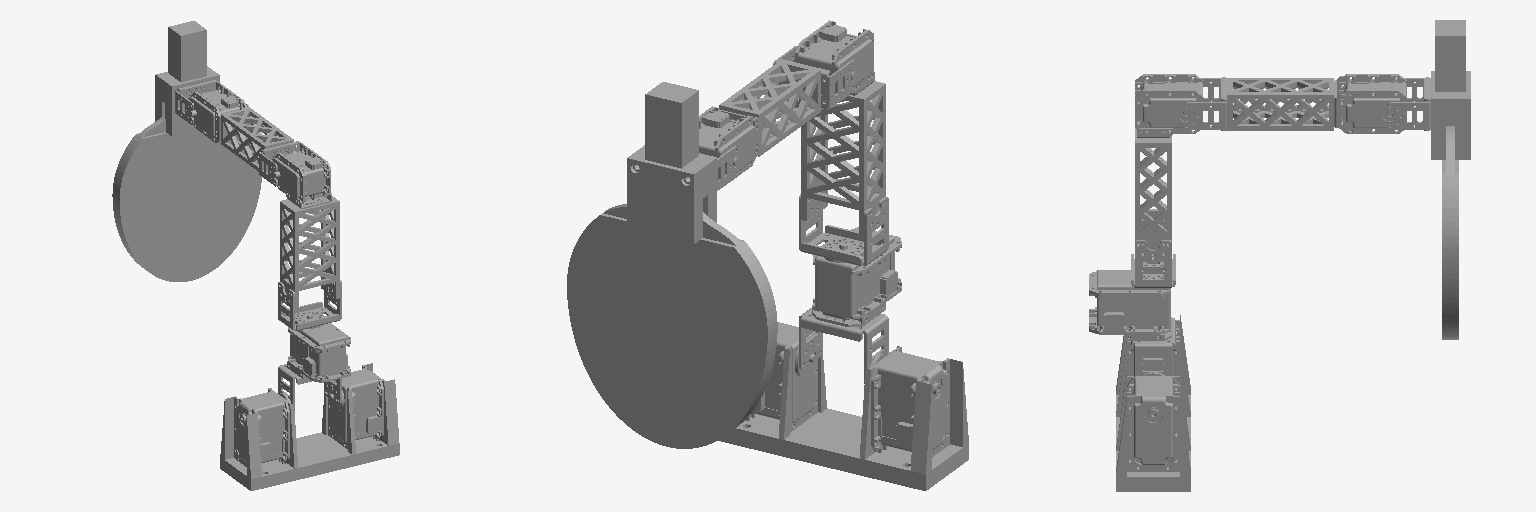
robot.urdf — all-4-export:
<?xml version="1.0" ?>
<!-- =================================================================================== -->
<!-- |    This document was autogenerated by xacro from urdf/all-4-export.xacro        | -->
<!-- |    EDITING THIS FILE BY HAND IS NOT RECOMMENDED                                 | -->
<!-- =================================================================================== -->
<robot name="all-4-export">
  <material name="silver">
    <color rgba="0.700 0.700 0.700 1.000"/>
  </material>
  <transmission name="Revolute 6_tran">
    <type>transmission_interface/SimpleTransmission</type>
    <joint name="Revolute 6">
      <hardwareInterface>hardware_interface/EffortJointInterface</hardwareInterface>
    </joint>
    <actuator name="Revolute 6_actr">
      <hardwareInterface>hardware_interface/EffortJointInterface</hardwareInterface>
      <mechanicalReduction>1</mechanicalReduction>
    </actuator>
  </transmission>
  <transmission name="Revolute 9_tran">
    <type>transmission_interface/SimpleTransmission</type>
    <joint name="Revolute 9">
      <hardwareInterface>hardware_interface/EffortJointInterface</hardwareInterface>
    </joint>
    <actuator name="Revolute 9_actr">
      <hardwareInterface>hardware_interface/EffortJointInterface</hardwareInterface>
      <mechanicalReduction>1</mechanicalReduction>
    </actuator>
  </transmission>
  <transmission name="Revolute 13_tran">
    <type>transmission_interface/SimpleTransmission</type>
    <joint name="Revolute 13">
      <hardwareInterface>hardware_interface/EffortJointInterface</hardwareInterface>
    </joint>
    <actuator name="Revolute 13_actr">
      <hardwareInterface>hardware_interface/EffortJointInterface</hardwareInterface>
      <mechanicalReduction>1</mechanicalReduction>
    </actuator>
  </transmission>
  <transmission name="Revolute 18_tran">
    <type>transmission_interface/SimpleTransmission</type>
    <joint name="Revolute 18">
      <hardwareInterface>hardware_interface/EffortJointInterface</hardwareInterface>
    </joint>
    <actuator name="Revolute 18_actr">
      <hardwareInterface>hardware_interface/EffortJointInterface</hardwareInterface>
      <mechanicalReduction>1</mechanicalReduction>
    </actuator>
  </transmission>
  <gazebo>
    <plugin filename="libgazebo_ros_control.so" name="control"/>
  </gazebo>
  <gazebo reference="base_link">
    <material>Gazebo/Silver</material>
    <mu1>0.2</mu1>
    <mu2>0.2</mu2>
    <self_collide>true</self_collide>
    <gravity>true</gravity>
  </gazebo>
  <gazebo reference="MX-64R_v1__2__1">
    <material>Gazebo/Silver</material>
    <mu1>0.2</mu1>
    <mu2>0.2</mu2>
    <self_collide>true</self_collide>
  </gazebo>
  <gazebo reference="MX-64R_v1__1__1">
    <material>Gazebo/Silver</material>
    <mu1>0.2</mu1>
    <mu2>0.2</mu2>
    <self_collide>true</self_collide>
  </gazebo>
  <gazebo reference="FR05-H101_v1__1__1">
    <material>Gazebo/Silver</material>
    <mu1>0.2</mu1>
    <mu2>0.2</mu2>
    <self_collide>true</self_collide>
  </gazebo>
  <gazebo reference="FR05-B101_v1_1">
    <material>Gazebo/Silver</material>
    <mu1>0.2</mu1>
    <mu2>0.2</mu2>
    <self_collide>true</self_collide>
  </gazebo>
  <gazebo reference="MX-64R_v1_1">
    <material>Gazebo/Silver</material>
    <mu1>0.2</mu1>
    <mu2>0.2</mu2>
    <self_collide>true</self_collide>
  </gazebo>
  <gazebo reference="FR05-H101_v1_1">
    <material>Gazebo/Silver</material>
    <mu1>0.2</mu1>
    <mu2>0.2</mu2>
    <self_collide>true</self_collide>
  </gazebo>
  <gazebo reference="arm_v9_1">
    <material>Gazebo/Silver</material>
    <mu1>0.2</mu1>
    <mu2>0.2</mu2>
    <self_collide>true</self_collide>
  </gazebo>
  <gazebo reference="FR07-S101_v1__1__1">
    <material>Gazebo/Silver</material>
    <mu1>0.2</mu1>
    <mu2>0.2</mu2>
    <self_collide>true</self_collide>
  </gazebo>
  <gazebo reference="MX-28T_R_v1__1__1">
    <material>Gazebo/Silver</material>
    <mu1>0.2</mu1>
    <mu2>0.2</mu2>
    <self_collide>true</self_collide>
  </gazebo>
  <gazebo reference="FR07-H101_v1_1">
    <material>Gazebo/Silver</material>
    <mu1>0.2</mu1>
    <mu2>0.2</mu2>
    <self_collide>true</self_collide>
  </gazebo>
  <gazebo reference="arm2_v2_1">
    <material>Gazebo/Silver</material>
    <mu1>0.2</mu1>
    <mu2>0.2</mu2>
    <self_collide>true</self_collide>
  </gazebo>
  <gazebo reference="FR07-S101_v1_1">
    <material>Gazebo/Silver</material>
    <mu1>0.2</mu1>
    <mu2>0.2</mu2>
    <self_collide>true</self_collide>
  </gazebo>
  <gazebo reference="MX-28T_R_v1_1">
    <material>Gazebo/Silver</material>
    <mu1>0.2</mu1>
    <mu2>0.2</mu2>
    <self_collide>true</self_collide>
  </gazebo>
  <gazebo reference="FR07-H101_v1__1__1">
    <material>Gazebo/Silver</material>
    <mu1>0.2</mu1>
    <mu2>0.2</mu2>
    <self_collide>true</self_collide>
  </gazebo>
  <gazebo reference="racket_joint_v8_1">
    <material>Gazebo/Silver</material>
    <mu1>0.2</mu1>
    <mu2>0.2</mu2>
    <self_collide>true</self_collide>
  </gazebo>
  <gazebo reference="pingpong_paddle_v5_1">
    <material>Gazebo/Silver</material>
    <mu1>0.2</mu1>
    <mu2>0.2</mu2>
    <self_collide>true</self_collide>
  </gazebo>
  <link name="base_link">
    <inertial>
      <origin rpy="0 0 0" xyz="4.41128716381848e-15 0.02800546166274284 0.010778198398999333"/>
      <mass value="0.9811970901956754"/>
      <inertia ixx="0.000446" ixy="0.0" ixz="0.0" iyy="0.002408" iyz="-0.0" izz="0.002531"/>
    </inertial>
    <visual>
      <origin rpy="0 0 0" xyz="0 0 0"/>
      <geometry>
        <mesh filename="package://4-dof/meshes/base_link.stl" scale="0.001 0.001 0.001"/>
      </geometry>
      <material name="silver"/>
    </visual>
    <collision>
      <origin rpy="0 0 0" xyz="0 0 0"/>
      <geometry>
        <mesh filename="package://4-dof/meshes/base_link.stl" scale="0.001 0.001 0.001"/>
      </geometry>
    </collision>
  </link>
  <link name="MX-64R_v1__2__1">
    <inertial>
      <origin rpy="0 0 0" xyz="0.017451641868345052 0.011000000017253497 0.030092246470602525"/>
      <!-- mass from MX-64R spec sheet (robotis.com, 902-0065-000): 126g -->
      <mass value="0.126"/>
      <inertia ixx="4.344e-05" ixy="0.0" ixz="-1.551e-06" iyy="5.186e-05" iyz="0.0" izz="2.948e-05"/>
    </inertial>
    <visual>
      <origin rpy="0 0 0" xyz="0.06625 -0.017 -0.0148"/>
      <geometry>
        <mesh filename="package://4-dof/meshes/MX-64R_v1__2__1.stl" scale="0.001 0.001 0.001"/>
      </geometry>
      <material name="silver"/>
    </visual>
    <collision>
      <origin rpy="0 0 0" xyz="0.06625 -0.017 -0.0148"/>
      <geometry>
        <mesh filename="package://4-dof/meshes/MX-64R_v1__2__1.stl" scale="0.001 0.001 0.001"/>
      </geometry>
    </collision>
  </link>
  <link name="MX-64R_v1__1__1">
    <inertial>
      <origin rpy="0 0 0" xyz="-0.017451641868345052 0.010999999982746273 0.030092246470602525"/>
      <!-- mass from MX-64R spec sheet (robotis.com, 902-0065-000): 126g -->
      <mass value="0.126"/>
      <inertia ixx="4.344e-05" ixy="0.0" ixz="1.551e-06" iyy="5.186e-05" iyz="-0.0" izz="2.948e-05"/>
    </inertial>
    <visual>
      <origin rpy="0 0 0" xyz="-0.06625 -0.017 -0.0148"/>
      <geometry>
        <mesh filename="package://4-dof/meshes/MX-64R_v1__1__1.stl" scale="0.001 0.001 0.001"/>
      </geometry>
      <material name="silver"/>
    </visual>
    <collision>
      <origin rpy="0 0 0" xyz="-0.06625 -0.017 -0.0148"/>
      <geometry>
        <mesh filename="package://4-dof/meshes/MX-64R_v1__1__1.stl" scale="0.001 0.001 0.001"/>
      </geometry>
    </collision>
  </link>
  <link name="FR05-H101_v1__1__1">
    <inertial>
      <origin rpy="0 0 0" xyz="0.02550000000002023 -1.1796119636642288e-16 0.0256313146478562"/>
      <mass value="0.05198831685263556"/>
      <inertia ixx="1.3e-05" ixy="0.0" ixz="-0.0" iyy="2.7e-05" iyz="0.0" izz="2.6e-05"/>
    </inertial>
    <visual>
      <origin rpy="0 0 0" xyz="0.02575 -0.028 -0.0601"/>
      <geometry>
        <mesh filename="package://4-dof/meshes/FR05-H101_v1__1__1.stl" scale="0.001 0.001 0.001"/>
      </geometry>
      <material name="silver"/>
    </visual>
    <collision>
      <origin rpy="0 0 0" xyz="0.02575 -0.028 -0.0601"/>
      <geometry>
        <mesh filename="package://4-dof/meshes/FR05-H101_v1__1__1.stl" scale="0.001 0.001 0.001"/>
      </geometry>
    </collision>
  </link>
  <link name="FR05-B101_v1_1">
    <inertial>
      <origin rpy="0 0 0" xyz="-4.5090504680739274e-14 -0.0029557693246398953 0.0016902214716354585"/>
      <mass value="0.01879497598985593"/>
      <inertia ixx="2e-06" ixy="0.0" ixz="-0.0" iyy="4e-06" iyz="0.0" izz="5e-06"/>
    </inertial>
    <visual>
      <origin rpy="0 0 0" xyz="0.00025 -0.028 -0.0961"/>
      <geometry>
        <mesh filename="package://4-dof/meshes/FR05-B101_v1_1.stl" scale="0.001 0.001 0.001"/>
      </geometry>
      <material name="silver"/>
    </visual>
    <collision>
      <origin rpy="0 0 0" xyz="0.00025 -0.028 -0.0961"/>
      <geometry>
        <mesh filename="package://4-dof/meshes/FR05-B101_v1_1.stl" scale="0.001 0.001 0.001"/>
      </geometry>
    </collision>
  </link>
  <link name="MX-64R_v1_1">
    <inertial>
      <origin rpy="0 0 0" xyz="0.017300000017253583 -0.019207753529397596 0.017451641868345094"/>
      <!-- mass from MX-64R spec sheet (robotis.com, 902-0065-000): 126g -->
      <mass value="0.126"/>
      <inertia ixx="5.186e-05" ixy="0.0" ixz="0.0" iyy="2.948e-05" iyz="-1.551e-06" izz="4.344e-05"/>
    </inertial>
    <visual>
      <origin rpy="0 0 0" xyz="0.01755 -0.032 -0.1021"/>
      <geometry>
        <mesh filename="package://4-dof/meshes/MX-64R_v1_1.stl" scale="0.001 0.001 0.001"/>
      </geometry>
      <material name="silver"/>
    </visual>
    <collision>
      <origin rpy="0 0 0" xyz="0.01755 -0.032 -0.1021"/>
      <geometry>
        <mesh filename="package://4-dof/meshes/MX-64R_v1_1.stl" scale="0.001 0.001 0.001"/>
      </geometry>
    </collision>
  </link>
  <link name="FR05-H101_v1_1">
    <inertial>
      <origin rpy="0 0 0" xyz="2.024828872279616e-14 -1.3530843112619095e-16 0.010168685352143825"/>
      <mass value="0.05198831685263556"/>
      <inertia ixx="1.3e-05" ixy="-0.0" ixz="0.0" iyy="2.7e-05" iyz="-0.0" izz="2.6e-05"/>
    </inertial>
    <visual>
      <origin rpy="0 0 0" xyz="0.00025 -0.028 -0.1426"/>
      <geometry>
        <mesh filename="package://4-dof/meshes/FR05-H101_v1_1.stl" scale="0.001 0.001 0.001"/>
      </geometry>
      <material name="silver"/>
    </visual>
    <collision>
      <origin rpy="0 0 0" xyz="0.00025 -0.028 -0.1426"/>
      <geometry>
        <mesh filename="package://4-dof/meshes/FR05-H101_v1_1.stl" scale="0.001 0.001 0.001"/>
      </geometry>
    </collision>
  </link>
  <link name="arm_v9_1">
    <inertial>
      <origin rpy="0 0 0" xyz="0.02362282770461404 1.947747047686965e-05 0.05189568925169269"/>
      <!-- mass measured: arm_v9_1 = 27g -->
      <mass value="0.027"/>
      <inertia ixx="2.666e-05" ixy="0.0" ixz="1.11e-07" iyy="3.21e-05" iyz="0.0" izz="1.077e-05"/>
    </inertial>
    <visual>
      <origin rpy="0 0 0" xyz="0.02375 -0.028 -0.1674"/>
      <geometry>
        <mesh filename="package://4-dof/meshes/arm_v9_1.stl" scale="0.001 0.001 0.001"/>
      </geometry>
      <material name="silver"/>
    </visual>
    <collision>
      <origin rpy="0 0 0" xyz="0.02375 -0.028 -0.1674"/>
      <geometry>
        <mesh filename="package://4-dof/meshes/arm_v9_1.stl" scale="0.001 0.001 0.001"/>
      </geometry>
    </collision>
  </link>
  <link name="FR07-S101_v1__1__1">
    <inertial>
      <origin rpy="0 0 0" xyz="-2.0825301118992945e-14 0.008467333868896306 0.002214506791986759"/>
      <mass value="0.011446844551351427"/>
      <inertia ixx="1e-06" ixy="0.0" ixz="-0.0" iyy="2e-06" iyz="-0.0" izz="2e-06"/>
    </inertial>
    <visual>
      <origin rpy="0 0 0" xyz="0.00025 -0.02 -0.2614"/>
      <geometry>
        <mesh filename="package://4-dof/meshes/FR07-S101_v1__1__1.stl" scale="0.001 0.001 0.001"/>
      </geometry>
      <material name="silver"/>
    </visual>
    <collision>
      <origin rpy="0 0 0" xyz="0.00025 -0.02 -0.2614"/>
      <geometry>
        <mesh filename="package://4-dof/meshes/FR07-S101_v1__1__1.stl" scale="0.001 0.001 0.001"/>
      </geometry>
    </collision>
  </link>
  <link name="MX-28T_R_v1__1__1">
    <inertial>
      <origin rpy="0 0 0" xyz="0.015031845145486198 0.017984471617669542 0.014999999976589629"/>
      <!-- mass from MX-28T spec sheet (robotis.com, 902-0067-000): 72g -->
      <mass value="0.072"/>
      <inertia ixx="1.717e-05" ixy="2.12e-07" ixz="0.0" iyy="1.251e-05" iyz="-0.0" izz="2.035e-05"/>
    </inertial>
    <visual>
      <origin rpy="0 0 0" xyz="0.01525 -0.0235 -0.2674"/>
      <geometry>
        <mesh filename="package://4-dof/meshes/MX-28T_R_v1__1__1.stl" scale="0.001 0.001 0.001"/>
      </geometry>
      <material name="silver"/>
    </visual>
    <collision>
      <origin rpy="0 0 0" xyz="0.01525 -0.0235 -0.2674"/>
      <geometry>
        <mesh filename="package://4-dof/meshes/MX-28T_R_v1__1__1.stl" scale="0.001 0.001 0.001"/>
      </geometry>
    </collision>
  </link>
  <link name="FR07-H101_v1_1">
    <inertial>
      <origin rpy="0 0 0" xyz="-3.365828433557125e-06 0.021380623885861517 6.089573290068984e-14"/>
      <mass value="0.025998108201265576"/>
      <inertia ixx="4e-06" ixy="-0.0" ixz="0.0" iyy="9e-06" iyz="0.0" izz="1e-05"/>
    </inertial>
    <visual>
      <origin rpy="0 0 0" xyz="0.00025 -0.053 -0.2824"/>
      <geometry>
        <mesh filename="package://4-dof/meshes/FR07-H101_v1_1.stl" scale="0.001 0.001 0.001"/>
      </geometry>
      <material name="silver"/>
    </visual>
    <collision>
      <origin rpy="0 0 0" xyz="0.00025 -0.053 -0.2824"/>
      <geometry>
        <mesh filename="package://4-dof/meshes/FR07-H101_v1_1.stl" scale="0.001 0.001 0.001"/>
      </geometry>
    </collision>
  </link>
  <link name="arm2_v2_1">
    <inertial>
      <origin rpy="0 0 0" xyz="-0.007777999999573574 0.03999999999999991 -0.007778000000000118"/>
      <!-- mass measured: arm2_v2_1 = 21.7g -->
      <mass value="0.0217"/>
      <inertia ixx="1.841e-05" ixy="-0.0" ixz="-0.0" iyy="4.818e-06" iyz="-0.0" izz="1.841e-05"/>
    </inertial>
    <visual>
      <origin rpy="0 0 0" xyz="-0.007528 -0.083 -0.290178"/>
      <geometry>
        <mesh filename="package://4-dof/meshes/arm2_v2_1.stl" scale="0.001 0.001 0.001"/>
      </geometry>
      <material name="silver"/>
    </visual>
    <collision>
      <origin rpy="0 0 0" xyz="-0.007528 -0.083 -0.290178"/>
      <geometry>
        <mesh filename="package://4-dof/meshes/arm2_v2_1.stl" scale="0.001 0.001 0.001"/>
      </geometry>
    </collision>
  </link>
  <link name="FR07-S101_v1_1">
    <inertial>
      <origin rpy="0 0 0" xyz="2.0689287956454638e-14 0.00221450679198662 0.000467333868896469"/>
      <mass value="0.011446844551351427"/>
      <inertia ixx="1e-06" ixy="0.0" ixz="-0.0" iyy="2e-06" iyz="-0.0" izz="2e-06"/>
    </inertial>
    <visual>
      <origin rpy="0 0 0" xyz="0.00025 -0.163 -0.2824"/>
      <geometry>
        <mesh filename="package://4-dof/meshes/FR07-S101_v1_1.stl" scale="0.001 0.001 0.001"/>
      </geometry>
      <material name="silver"/>
    </visual>
    <collision>
      <origin rpy="0 0 0" xyz="0.00025 -0.163 -0.2824"/>
      <geometry>
        <mesh filename="package://4-dof/meshes/FR07-S101_v1_1.stl" scale="0.001 0.001 0.001"/>
      </geometry>
    </collision>
  </link>
  <link name="MX-28T_R_v1_1">
    <inertial>
      <origin rpy="0 0 0" xyz="0.015031845145486136 0.024284471617669556 0.008499999976589567"/>
      <!-- mass from MX-28T spec sheet (robotis.com, 902-0067-000): 72g -->
      <mass value="0.072"/>
      <inertia ixx="1.717e-05" ixy="2.12e-07" ixz="0.0" iyy="1.251e-05" iyz="-0.0" izz="2.035e-05"/>
    </inertial>
    <visual>
      <origin rpy="0 0 0" xyz="0.01525 -0.169 -0.2739"/>
      <geometry>
        <mesh filename="package://4-dof/meshes/MX-28T_R_v1_1.stl" scale="0.001 0.001 0.001"/>
      </geometry>
      <material name="silver"/>
    </visual>
    <collision>
      <origin rpy="0 0 0" xyz="0.01525 -0.169 -0.2739"/>
      <geometry>
        <mesh filename="package://4-dof/meshes/MX-28T_R_v1_1.stl" scale="0.001 0.001 0.001"/>
      </geometry>
    </collision>
  </link>
  <link name="FR07-H101_v1__1__1">
    <inertial>
      <origin rpy="0 0 0" xyz="-3.3658284336170272e-06 0.021380623885861483 6.078471059822732e-14"/>
      <mass value="0.025998108201265576"/>
      <inertia ixx="4e-06" ixy="-0.0" ixz="0.0" iyy="9e-06" iyz="0.0" izz="1e-05"/>
    </inertial>
    <visual>
      <origin rpy="0 0 0" xyz="0.00025 -0.2048 -0.2824"/>
      <geometry>
        <mesh filename="package://4-dof/meshes/FR07-H101_v1__1__1.stl" scale="0.001 0.001 0.001"/>
      </geometry>
      <material name="silver"/>
    </visual>
    <collision>
      <origin rpy="0 0 0" xyz="0.00025 -0.2048 -0.2824"/>
      <geometry>
        <mesh filename="package://4-dof/meshes/FR07-H101_v1__1__1.stl" scale="0.001 0.001 0.001"/>
      </geometry>
    </collision>
  </link>
  <link name="racket_joint_v8_1">
    <inertial>
      <origin rpy="0 0 0" xyz="0.007777999999983611 0.01501142035517336 -0.0015451576233940778"/>
      <!-- TODO: measured mass is from racket_joint_v9_1 (13.3g + 13.2g = 26.5g); this link's mesh is
           still racket_joint_v8_1 and the STL shape looked different from the v9 parts weighed.
           Re-verify mass/inertia once the v9 mesh replaces v8 in this URDF. -->
      <mass value="0.0265"/>
      <inertia ixx="8.635e-06" ixy="0.0" ixz="0.0" iyy="1.349e-05" iyz="0.0" izz="1.053e-05"/>
    </inertial>
    <visual>
      <origin rpy="0 0 0" xyz="0.008028 -0.2348 -0.274622"/>
      <geometry>
        <mesh filename="package://4-dof/meshes/racket_joint_v8_1.stl" scale="0.001 0.001 0.001"/>
      </geometry>
      <material name="silver"/>
    </visual>
    <collision>
      <origin rpy="0 0 0" xyz="0.008028 -0.2348 -0.274622"/>
      <geometry>
        <mesh filename="package://4-dof/meshes/racket_joint_v8_1.stl" scale="0.001 0.001 0.001"/>
      </geometry>
    </collision>
  </link>
  <link name="pingpong_paddle_v5_1">
    <inertial>
      <origin rpy="0 0 0" xyz="6.7342507438505894e-15 -0.006399999999999961 -0.046816094811444026"/>
      <!-- mass measured: pingpong_paddle_v5_1 = 172.9g (with protective film still on, not peeled) -->
      <mass value="0.1729"/>
      <inertia ixx="0.0006375" ixy="-0.0" ixz="-0.0" iyy="0.0008405" iyz="0.0" izz="0.0002094"/>
    </inertial>
    <visual>
      <origin rpy="0 0 0" xyz="0.00025 -0.2561 -0.2484"/>
      <geometry>
        <mesh filename="package://4-dof/meshes/pingpong_paddle_v5_1.stl" scale="0.001 0.001 0.001"/>
      </geometry>
      <material name="silver"/>
    </visual>
    <collision>
      <origin rpy="0 0 0" xyz="0.00025 -0.2561 -0.2484"/>
      <geometry>
        <mesh filename="package://4-dof/meshes/pingpong_paddle_v5_1.stl" scale="0.001 0.001 0.001"/>
      </geometry>
    </collision>
  </link>
  <joint name="Rigid 4" type="fixed">
    <origin rpy="0 0 0" xyz="-0.06625 0.017 0.0148"/>
    <parent link="base_link"/>
    <child link="MX-64R_v1__2__1"/>
  </joint>
  <joint name="Rigid 5" type="fixed">
    <origin rpy="0 0 0" xyz="0.06625 0.017 0.0148"/>
    <parent link="base_link"/>
    <child link="MX-64R_v1__1__1"/>
  </joint>
  <joint name="Revolute 6" type="continuous">
    <origin rpy="0 0 0" xyz="0.0405 0.011 0.0453"/>
    <parent link="MX-64R_v1__2__1"/>
    <child link="FR05-H101_v1__1__1"/>
    <axis xyz="-1.0 0.0 0.0"/>
  </joint>
  <joint name="Rigid 7" type="fixed">
    <origin rpy="0 0 0" xyz="0.0255 0.0 0.036"/>
    <parent link="FR05-H101_v1__1__1"/>
    <child link="FR05-B101_v1_1"/>
  </joint>
  <joint name="Rigid 8" type="fixed">
    <origin rpy="0 0 0" xyz="-0.0173 0.004 0.006"/>
    <parent link="FR05-B101_v1_1"/>
    <child link="MX-64R_v1_1"/>
  </joint>
  <joint name="Revolute 9" type="revolute">
    <origin rpy="0 0 0" xyz="0.0173 -0.004 0.0405"/>
    <parent link="MX-64R_v1_1"/>
    <child link="FR05-H101_v1_1"/>
    <axis xyz="0.0 0.0 -1.0"/>
    <limit effort="100" lower="-0.523599" upper="0.523599" velocity="100"/>
  </joint>
  <joint name="Rigid 10" type="fixed">
    <origin rpy="0 0 0" xyz="-0.0235 0.0 0.0248"/>
    <parent link="FR05-H101_v1_1"/>
    <child link="arm_v9_1"/>
  </joint>
  <joint name="Rigid 11" type="fixed">
    <origin rpy="0 0 0" xyz="0.0235 -0.008 0.094"/>
    <parent link="arm_v9_1"/>
    <child link="FR07-S101_v1__1__1"/>
  </joint>
  <joint name="Rigid 12" type="fixed">
    <origin rpy="0 0 0" xyz="-0.015 0.0035 0.006"/>
    <parent link="FR07-S101_v1__1__1"/>
    <child link="MX-28T_R_v1__1__1"/>
  </joint>
  <joint name="Revolute 13" type="revolute">
    <origin rpy="0 0 0" xyz="0.015 0.0295 0.015"/>
    <parent link="MX-28T_R_v1__1__1"/>
    <child link="FR07-H101_v1_1"/>
    <axis xyz="-1.0 -0.0 -0.0"/>
    <limit effort="100" lower="-2.007129" upper="1.48353" velocity="100"/>
  </joint>
  <joint name="Rigid 19" type="fixed">
    <origin rpy="0 0 0" xyz="0.007778 0.03 0.007778"/>
    <parent link="FR07-H101_v1_1"/>
    <child link="arm2_v2_1"/>
  </joint>
  <joint name="Rigid 16" type="fixed">
    <origin rpy="0 0 0" xyz="-0.007778 0.08 -0.007778"/>
    <parent link="arm2_v2_1"/>
    <child link="FR07-S101_v1_1"/>
  </joint>
  <joint name="Rigid 17" type="fixed">
    <origin rpy="0 0 0" xyz="-0.015 0.006 -0.0085"/>
    <parent link="FR07-S101_v1_1"/>
    <child link="MX-28T_R_v1_1"/>
  </joint>
  <joint name="Revolute 18" type="revolute">
    <origin rpy="0 0 0" xyz="0.015 0.0358 0.0085"/>
    <parent link="MX-28T_R_v1_1"/>
    <child link="FR07-H101_v1__1__1"/>
    <axis xyz="-1.0 0.0 -0.0"/>
    <limit effort="100" lower="-2.094395" upper="2.094395" velocity="100"/>
  </joint>
  <joint name="Rigid 14" type="fixed">
    <origin rpy="0 0 0" xyz="-0.007778 0.03 -0.007778"/>
    <parent link="FR07-H101_v1__1__1"/>
    <child link="racket_joint_v8_1"/>
  </joint>
  <joint name="Rigid 15" type="fixed">
    <origin rpy="0 0 0" xyz="0.007778 0.0213 -0.026222"/>
    <parent link="racket_joint_v8_1"/>
    <child link="pingpong_paddle_v5_1"/>
  </joint>
</robot>

--- Facts derived from the render (not from the file) ---
Views: 3 orthographic renders of the robot side by side, from view 1: azimuth 30°, elevation 25°; view 2: azimuth 150°, elevation 25°; view 3: azimuth 270°, elevation 25°.
Model all-4-export with 17 links and 16 joints (3 revolute, 1 continuous, 12 fixed), rooted at base_link, posed every joint at zero.
Visible links, largest first — view 1: pingpong_paddle_v5_1, base_link, arm_v9_1, MX-64R_v1_1, MX-64R_v1__2__1, MX-64R_v1__1__1, arm2_v2_1, MX-28T_R_v1__1__1, FR05-H101_v1_1, racket_joint_v8_1, MX-28T_R_v1_1, FR05-H101_v1__1__1 (+2 smaller); view 2: pingpong_paddle_v5_1, base_link, arm_v9_1, racket_joint_v8_1, MX-64R_v1__2__1, arm2_v2_1, MX-64R_v1_1, FR05-H101_v1_1, MX-28T_R_v1__1__1, MX-64R_v1__1__1, MX-28T_R_v1_1, FR05-H101_v1__1__1 (+3 smaller); view 3: base_link, pingpong_paddle_v5_1, arm2_v2_1, MX-64R_v1_1, MX-64R_v1__1__1, arm_v9_1, MX-28T_R_v1__1__1, MX-28T_R_v1_1, racket_joint_v8_1, FR05-H101_v1_1, FR07-H101_v1__1__1, FR07-H101_v1_1 (+1 smaller).
Link boxes in pixels (x1,y1,x2,y2): pingpong_paddle_v5_1: (112, 21, 261, 281); base_link: (220, 363, 399, 490); arm_v9_1: (280, 196, 339, 308); MX-64R_v1_1: (288, 314, 350, 382); MX-64R_v1__2__1: (236, 391, 290, 463); MX-64R_v1__1__1: (327, 368, 383, 442); arm2_v2_1: (221, 107, 293, 171); MX-28T_R_v1__1__1: (273, 147, 330, 203); FR05-H101_v1_1: (278, 280, 341, 330); racket_joint_v8_1: (155, 66, 219, 135); MX-28T_R_v1_1: (189, 85, 247, 142); FR05-H101_v1__1__1: (278, 364, 341, 410); pingpong_paddle_v5_1: (567, 82, 777, 448); base_link: (718, 331, 968, 490); arm_v9_1: (801, 81, 885, 234); racket_joint_v8_1: (627, 145, 716, 243); MX-64R_v1__2__1: (870, 350, 946, 452); arm2_v2_1: (719, 60, 820, 156); MX-64R_v1_1: (813, 227, 901, 319); FR05-H101_v1_1: (799, 194, 888, 265); MX-28T_R_v1__1__1: (794, 20, 873, 100); MX-64R_v1__1__1: (746, 322, 818, 422); MX-28T_R_v1_1: (699, 106, 755, 187); FR05-H101_v1__1__1: (799, 308, 888, 383); base_link: (1116, 315, 1190, 491); pingpong_paddle_v5_1: (1435, 20, 1465, 339); arm2_v2_1: (1227, 78, 1333, 130); MX-64R_v1_1: (1089, 270, 1170, 334); MX-64R_v1__1__1: (1127, 372, 1179, 468); arm_v9_1: (1135, 128, 1171, 258); MX-28T_R_v1__1__1: (1135, 74, 1202, 133); MX-28T_R_v1_1: (1339, 74, 1406, 133); racket_joint_v8_1: (1431, 71, 1470, 159); FR05-H101_v1_1: (1131, 227, 1175, 287); FR07-H101_v1__1__1: (1387, 77, 1430, 130); FR07-H101_v1_1: (1184, 77, 1226, 130).
Size in the robot's own frame: 0.1555 by 0.2849 by 0.345 metres.
17 mesh visuals loaded from 17 distinct referenced files (17 binary STL).
